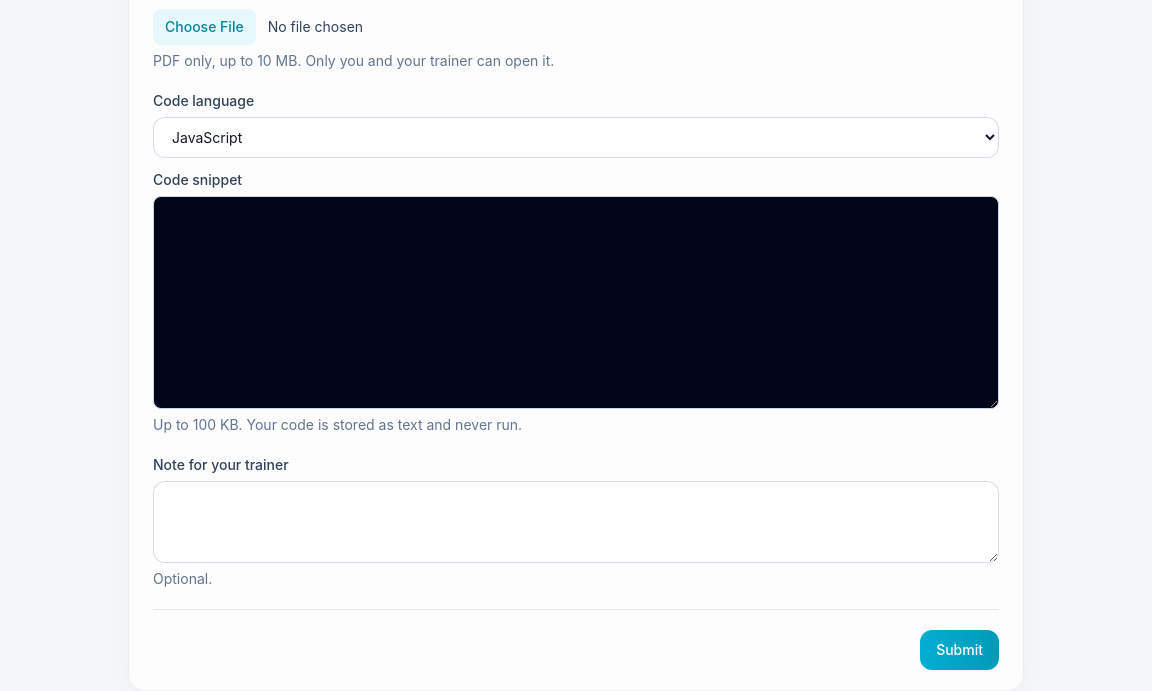
it: AssignmentPage › requires at least one item and checks links before sending
(page scrolled)
Click the button "Submit" at (960, 650), box top-left (920, 630), bottom-right (999, 670)
(page scrolled)
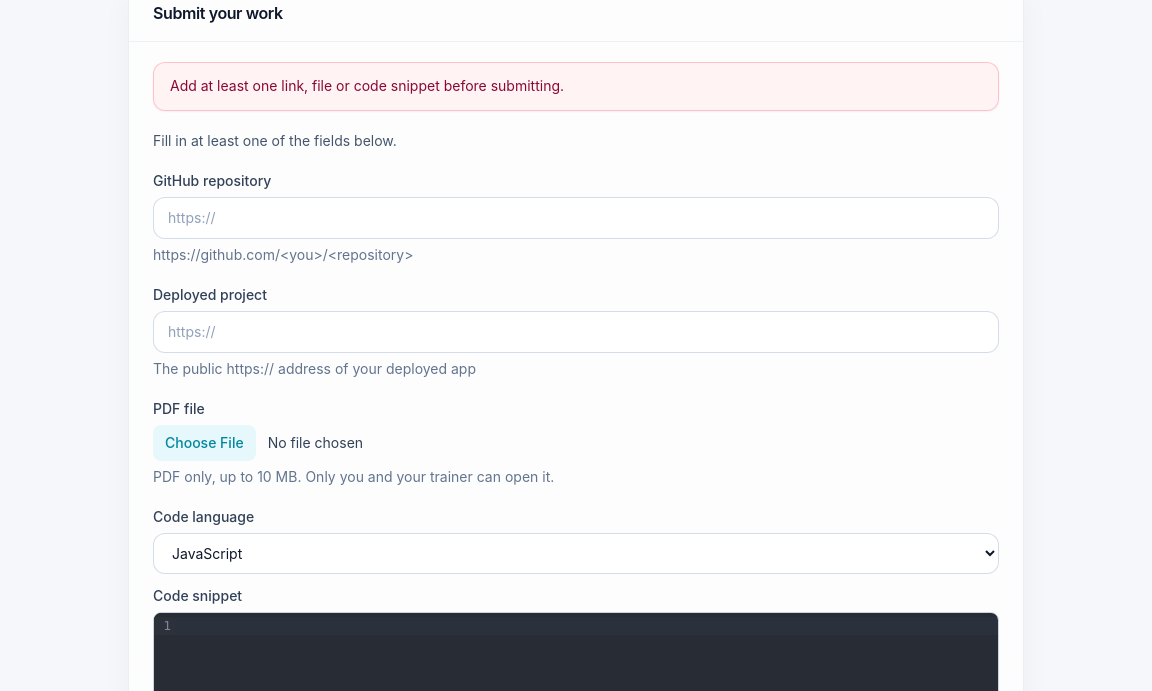
Now the message shows "Add at least one link, file or code snippet", box top-left (170, 77), bottom-right (564, 94)
Type "http://localhost:3000" into the field labelled "Deployed project" at (576, 332), box top-left (153, 311), bottom-right (999, 353)
(page scrolled)
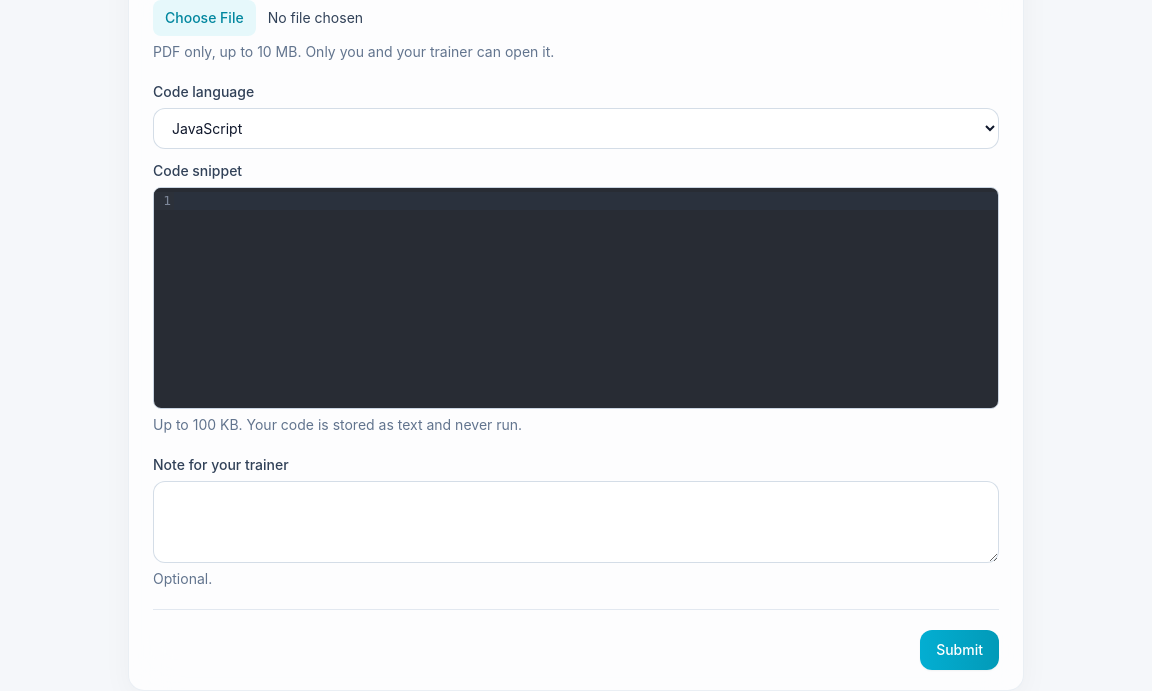
Click the button "Submit" at (960, 650), box top-left (920, 630), bottom-right (999, 670)
(page scrolled)
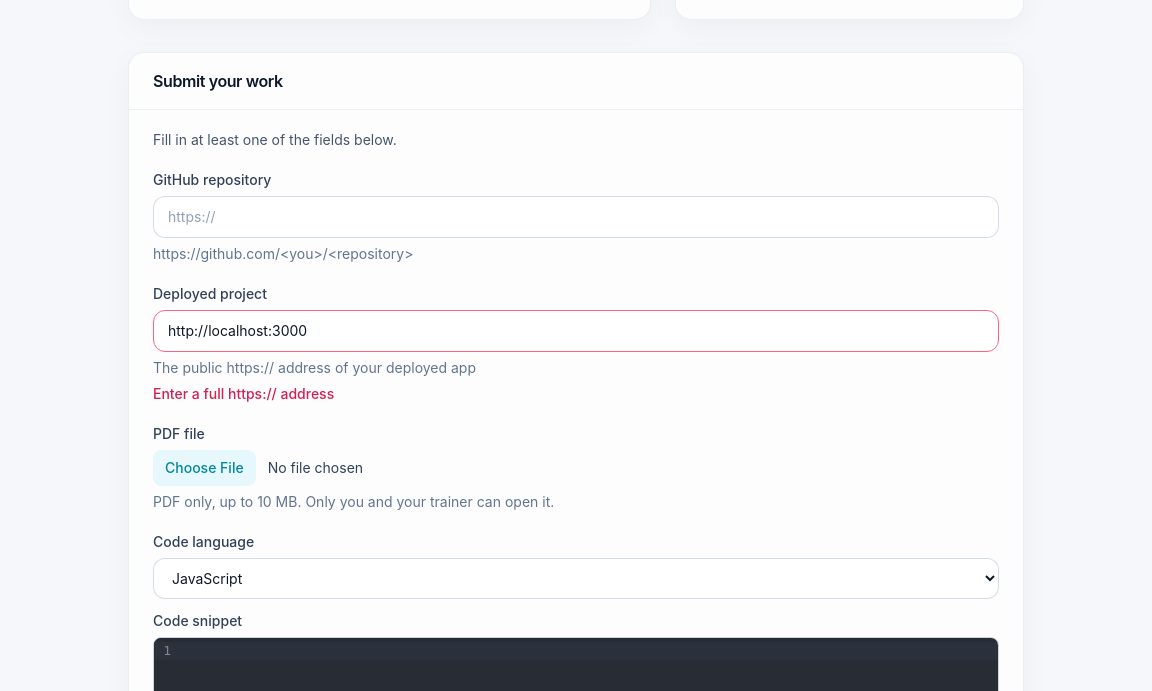
Now the text "Enter a full https:// address" is shown, box top-left (153, 385), bottom-right (334, 402)
